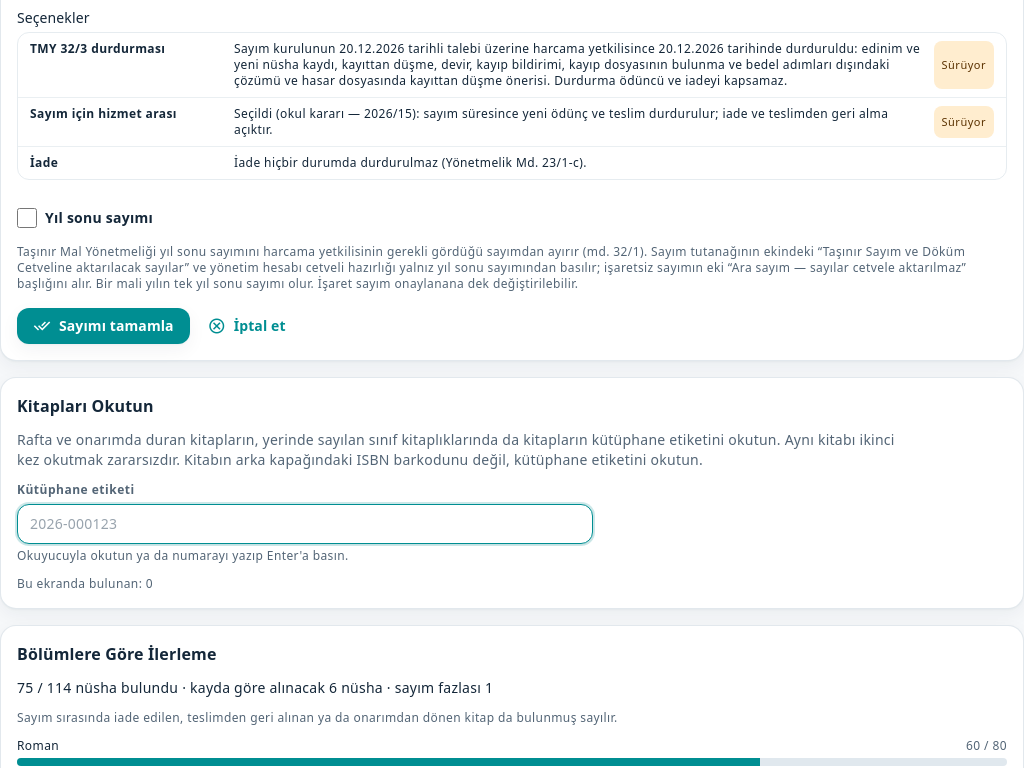
Scenario: Yıl sonu sayımı işareti › süren sayımda ayrıntıdan değişir; işaretsizse belgeler kartı ara sayımı söyler
(page scrolled)
Click the checkbox labelled "Yıl sonu sayımı".
click(27, 218)  # box [17,208,37,228]
(page scrolled)
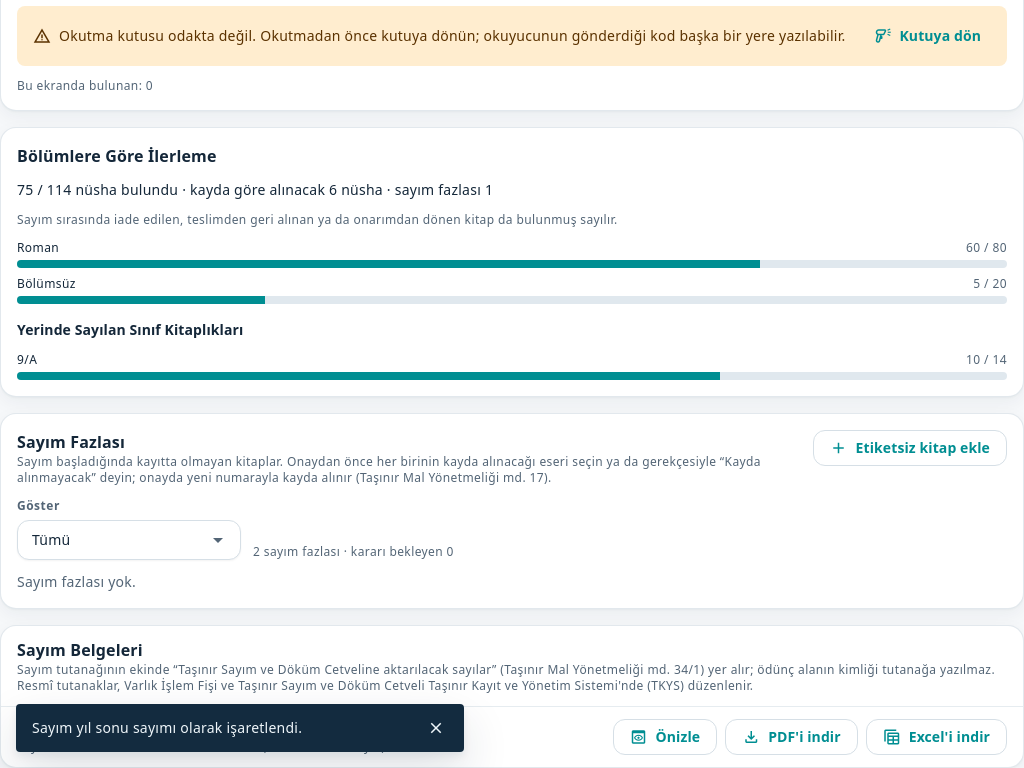
Result: the text "Sayım tutanağının ekinde “" shows "Taşınır Sayım ve Döküm Cetveline aktarılacak sayılar" at [17,661,995,694]
